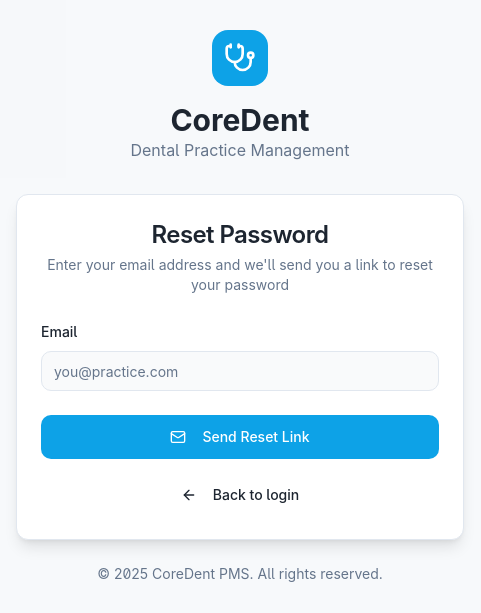
Scenario: ForgotPassword Page › shows validation error for invalid email
The width and height of the screenshot is (481, 613).
In the field labelled "Email": [240, 371] box [41,351,439,391], type "invalid-email"
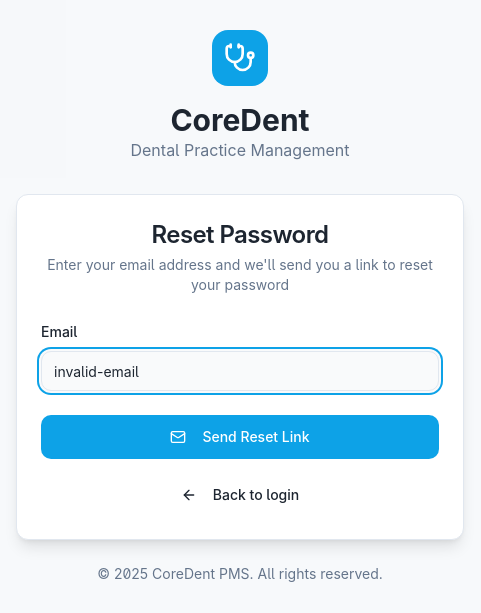
Submit the form labelled "Email Send Reset Link Back to login", box [17,319,463,539]
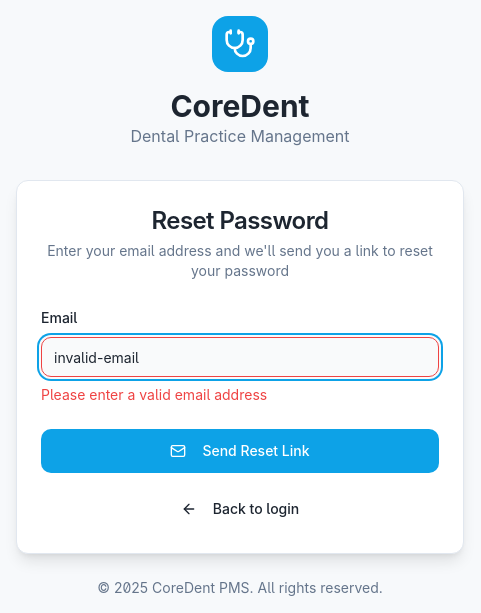
Result: the text "Please enter a valid email address" is shown at [41,386,267,403]
